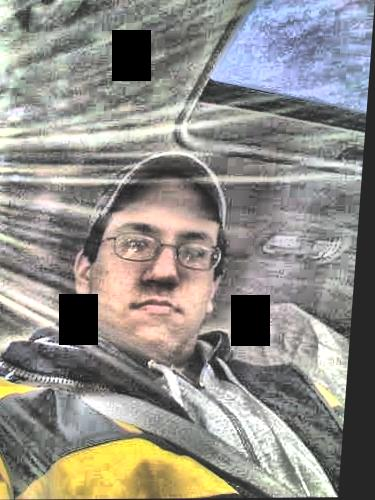seatbelt: (69, 356, 287, 485)
